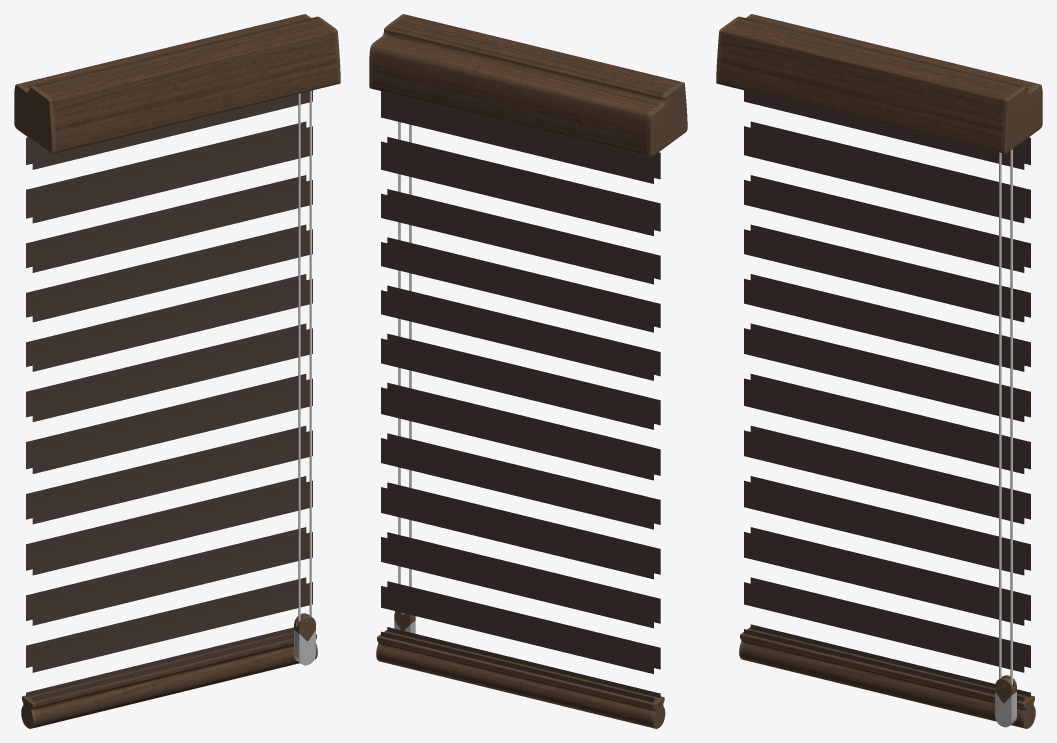
Rendered from curtain_02_16.001.fbx.
3 views of the same model, side by side, from view 1: azimuth 30°, elevation 25°; view 2: azimuth 150°, elevation 25°; view 3: azimuth 330°, elevation 25° (orthographic). The views are drawn at different scales.
Visible parts, largest first — view 1: curtain_02_16.001; view 2: curtain_02_16.001; view 3: curtain_02_16.001.
Boxes of the visible parts, x1,y1,x2,y2 form: curtain_02_16.001: (14,14,340,728); curtain_02_16.001: (369,14,687,728); curtain_02_16.001: (716,14,1042,728).
Size of the model in its own units: 51.11 by 109 by 11.73.
Materials: 1 (1 with a texture image).
